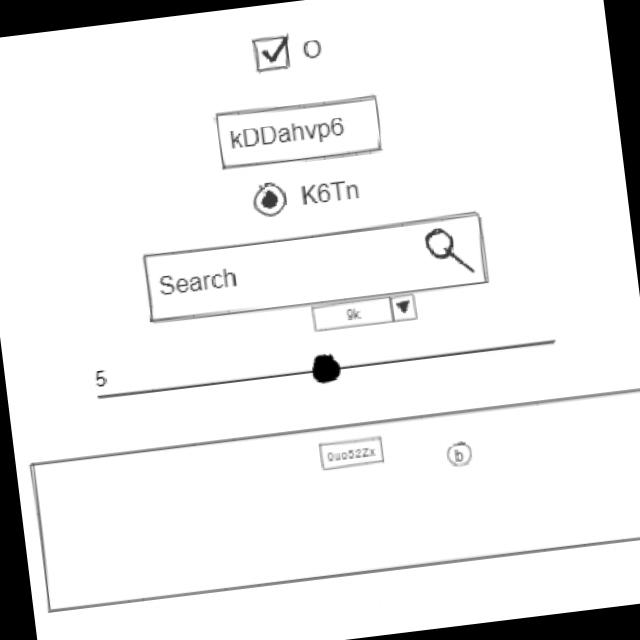button: (317, 434, 389, 474)
checkbox: (250, 28, 326, 76)
container: (26, 384, 640, 617)
icon-button: (445, 439, 475, 469)
input: (211, 91, 387, 175)
radio: (250, 170, 365, 220)
search: (141, 210, 494, 328)
select: (311, 293, 420, 335)
slider: (106, 324, 560, 412)
